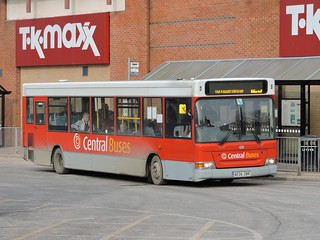bus: (22, 77, 277, 186)
